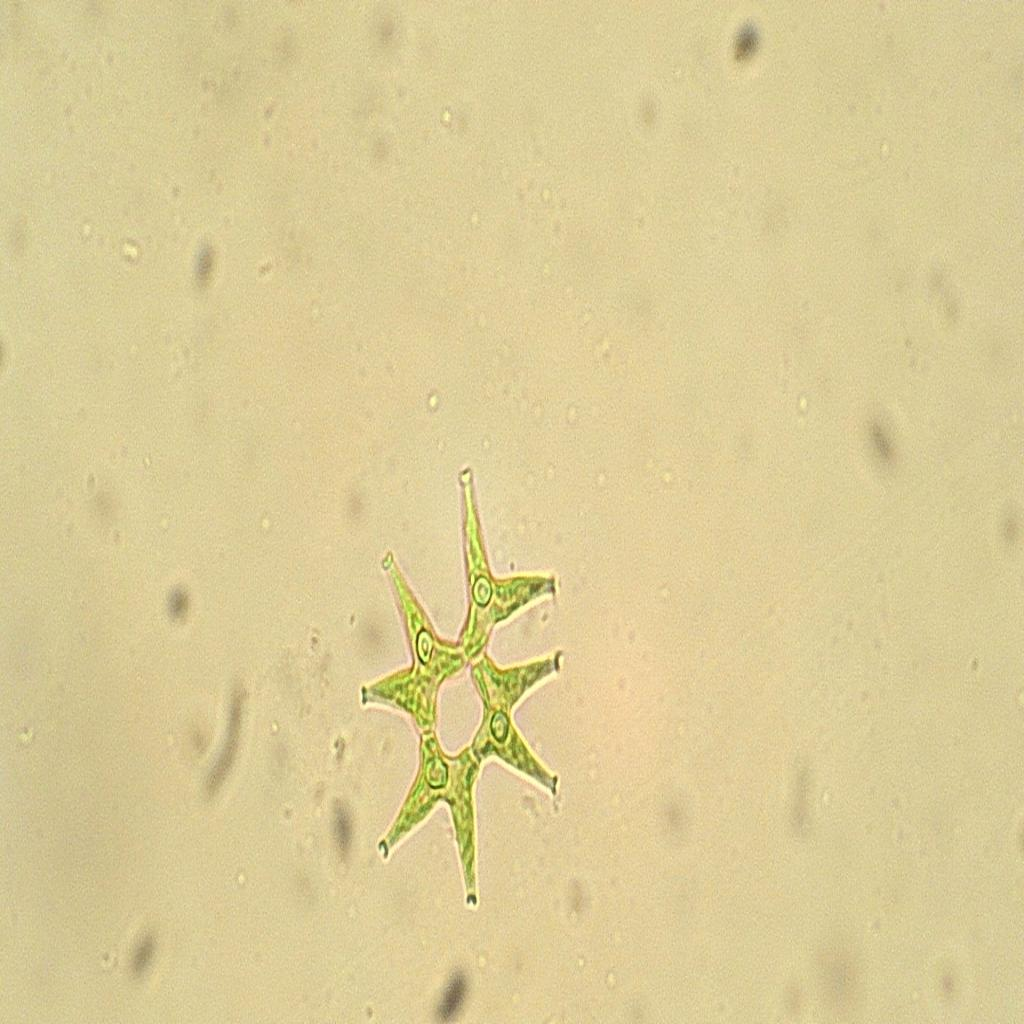Pediastrum_75FI: (349, 456, 573, 946)
